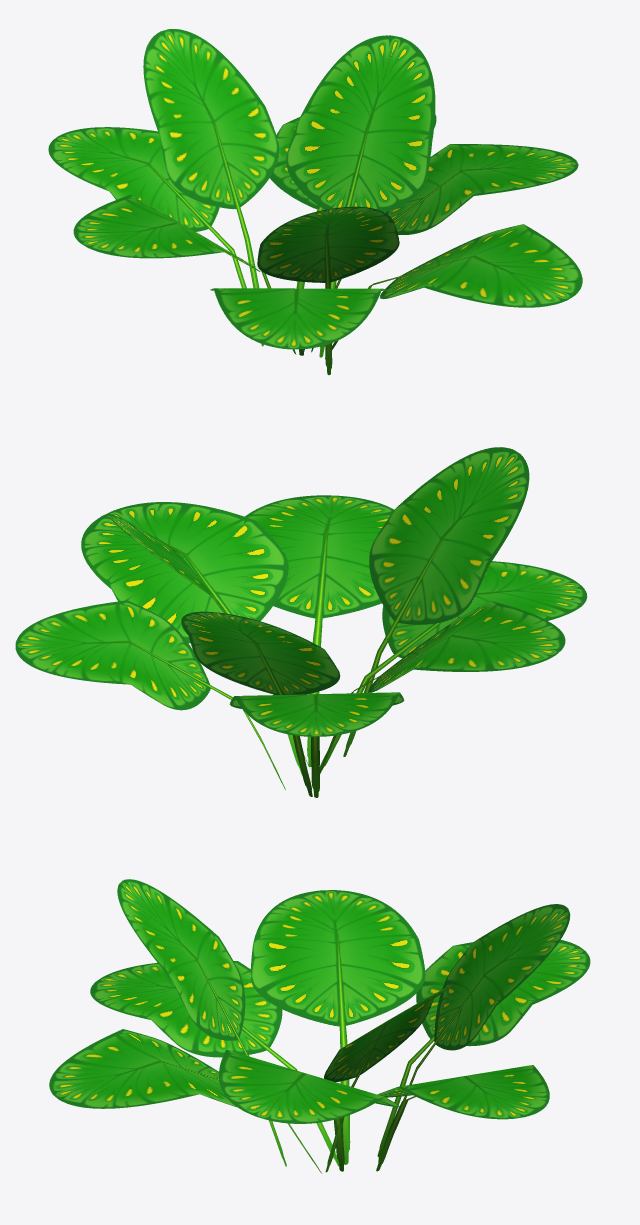
File: Bush_05b.FBX
3 views of the same model, one above another, from view 1: azimuth 30°, elevation 25°; view 2: azimuth 150°, elevation 25°; view 3: azimuth 270°, elevation 25° (orthographic). The views are drawn at different scales.
Visible parts, largest first — view 1: Bush_05b; view 2: Bush_05b; view 3: Bush_05b.
Boxes of the visible parts, bbox=[...] form: Bush_05b: bbox=[48, 29, 582, 374]; Bush_05b: bbox=[15, 447, 587, 797]; Bush_05b: bbox=[49, 879, 590, 1173].
Size of the model in its own units: 1.26 by 0.6109 by 1.35.
